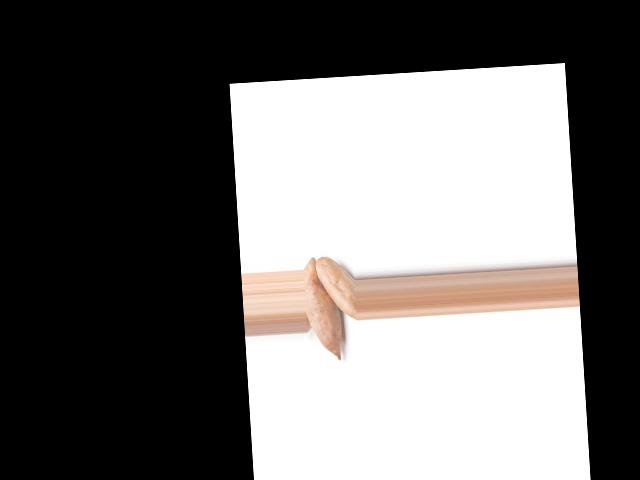sweet_potato: (316, 254, 358, 326)
